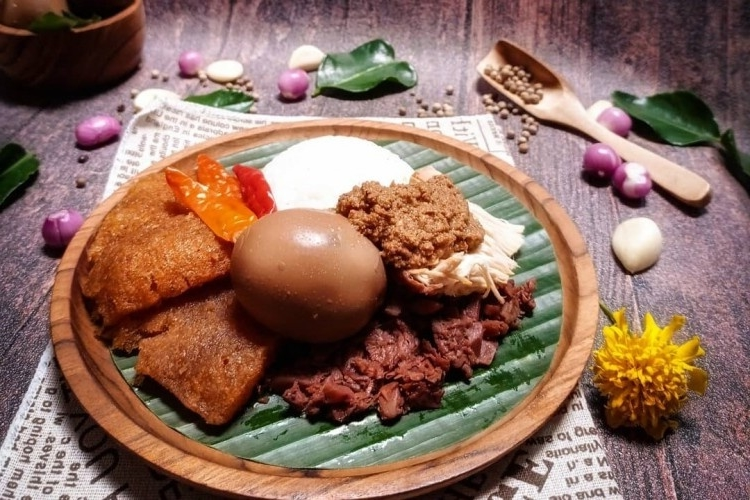gudeg: (79, 135, 539, 435)
